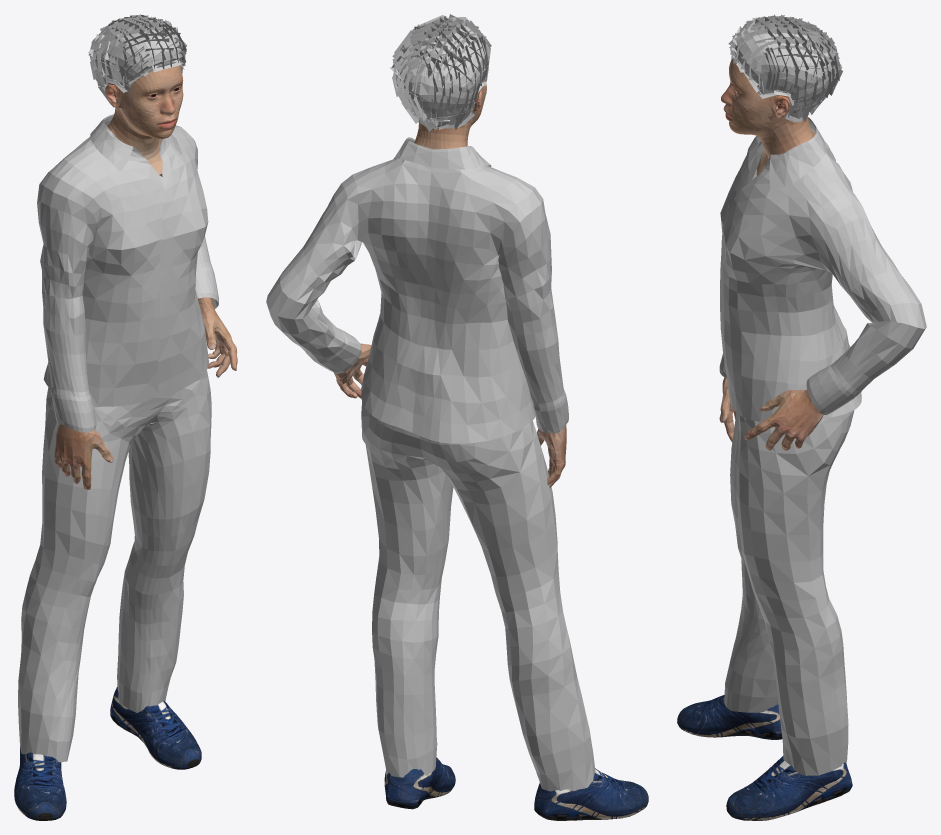
The model's file is human_2.obj.
3 views of the same model, side by side, from view 1: azimuth 30°, elevation 25°; view 2: azimuth 150°, elevation 25°; view 3: azimuth 270°, elevation 25° (orthographic). The views are drawn at different scales.
Parts seen in each view (by area): view 1: male_casualsuit03.obj, base.obj, shoes06.obj, afro01.obj; view 2: male_casualsuit03.obj, afro01.obj, shoes06.obj, base.obj; view 3: male_casualsuit03.obj, afro01.obj, shoes06.obj, base.obj.
Part boxes in pixels (box(x1,y1,x2,y2)): male_casualsuit03.obj: box(18, 114, 218, 762); base.obj: box(54, 65, 237, 489); shoes06.obj: box(14, 687, 201, 820); afro01.obj: box(88, 14, 186, 107); male_casualsuit03.obj: box(266, 137, 595, 791); afro01.obj: box(389, 14, 491, 132); shoes06.obj: box(384, 757, 648, 820); base.obj: box(333, 81, 566, 487); male_casualsuit03.obj: box(719, 117, 926, 775); afro01.obj: box(728, 14, 842, 122); shoes06.obj: box(677, 694, 852, 820); base.obj: box(719, 59, 823, 450).
Size of the model in its own units: 6.32 by 17.08 by 4.95.
